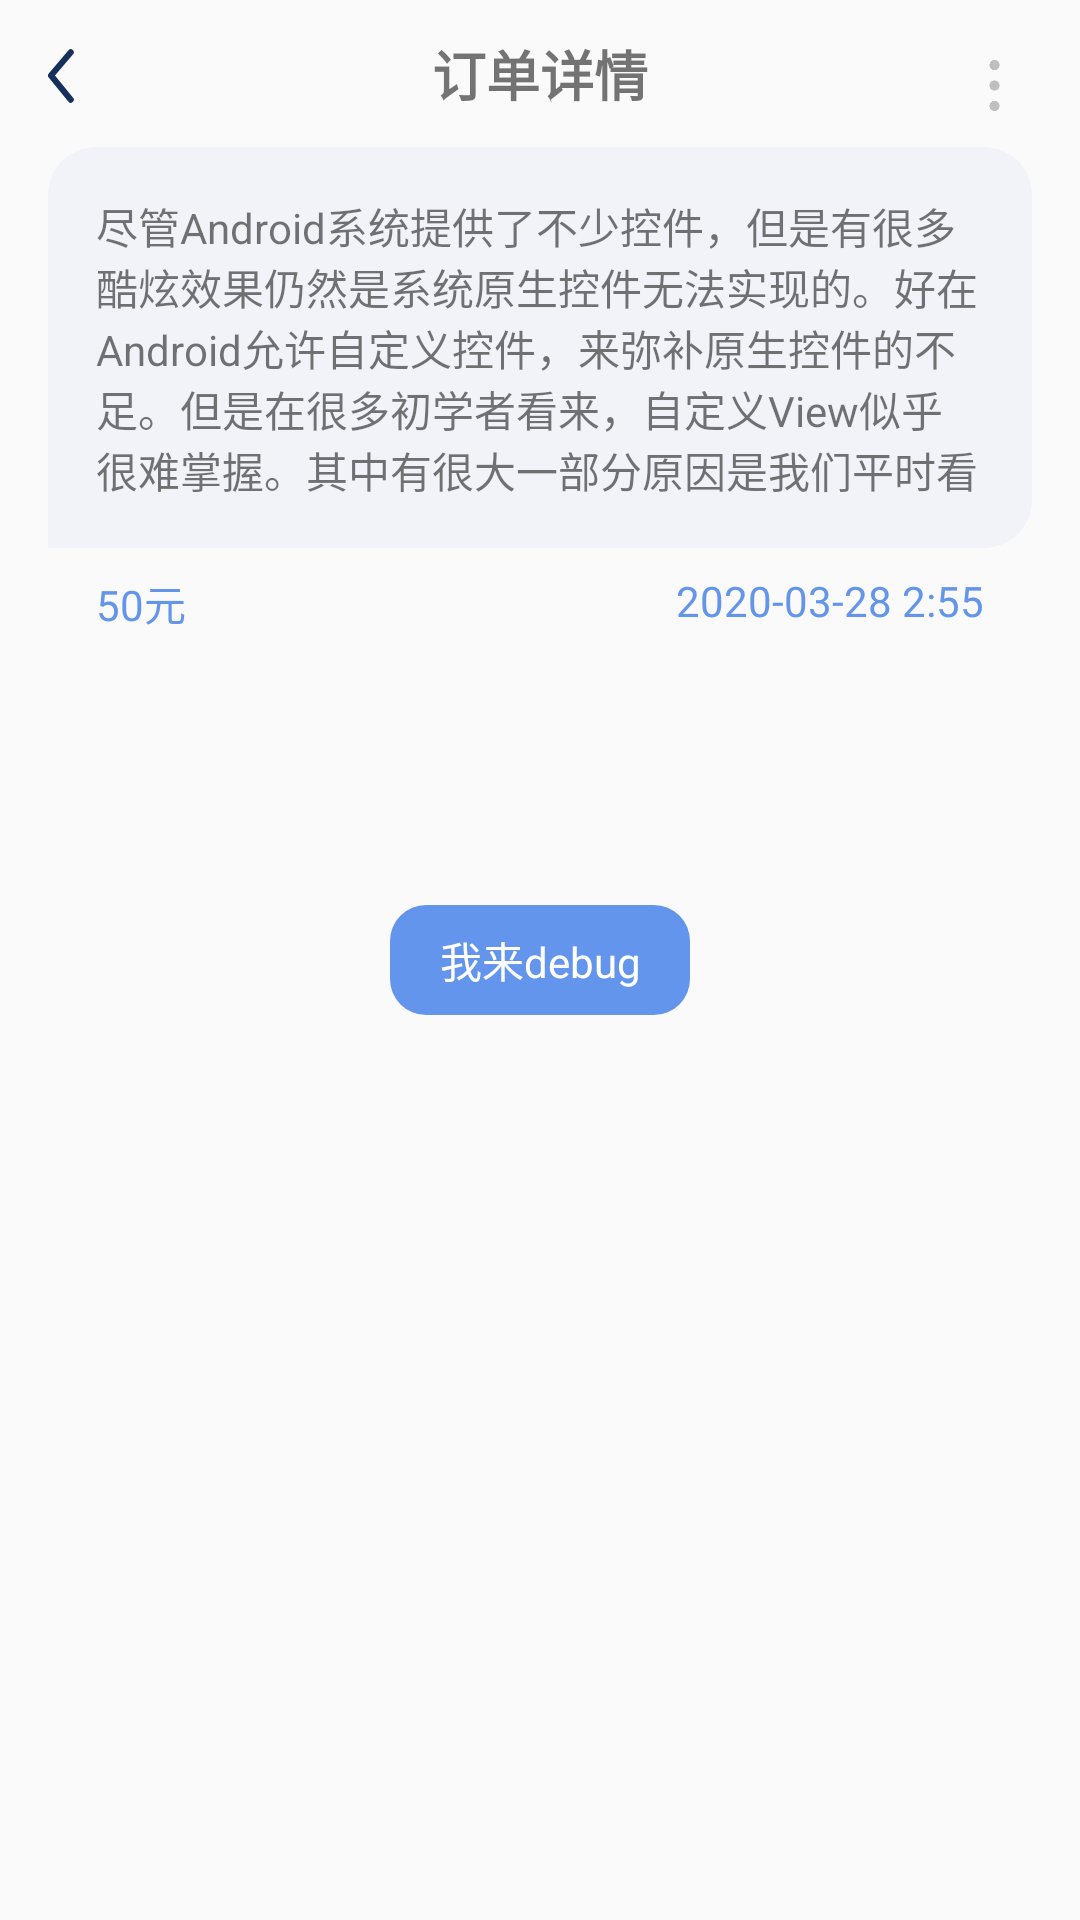

Screen size 1080px x 1920px. Icon name, then its center in pixels as (x,y):
feature detail extra: (994,85)
